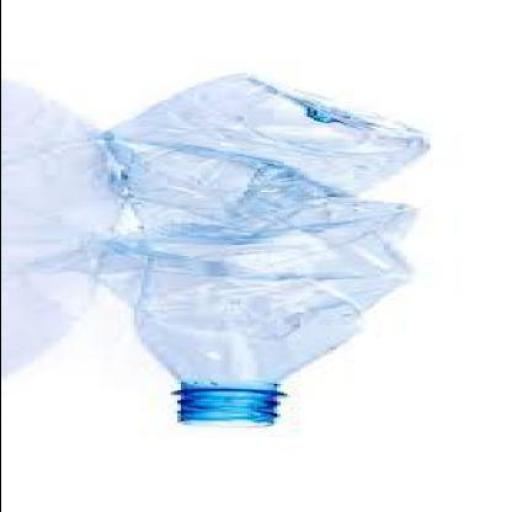plastic: (86, 75, 432, 432)
